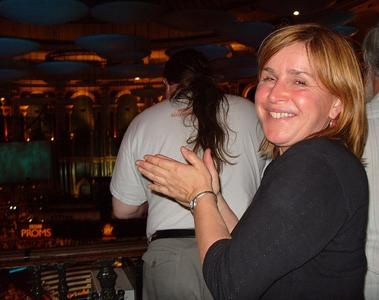person without safety: (214, 22, 371, 296)
